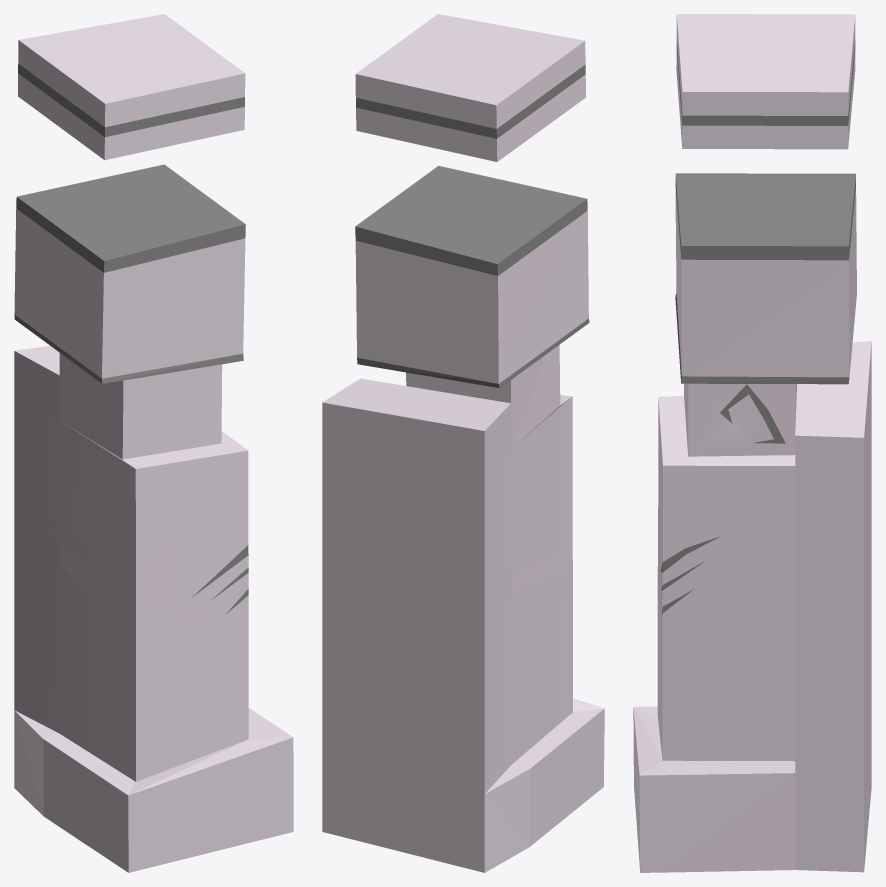
Rendered from Nexus.FBX.
3 views of the same model, side by side, from view 1: azimuth 30°, elevation 25°; view 2: azimuth 150°, elevation 25°; view 3: azimuth 270°, elevation 25° (orthographic). The views are drawn at different scales.
Parts seen in each view (by area): view 1: Nexus, Nexus_Plateform; view 2: Nexus, Nexus_Plateform; view 3: Nexus, Nexus_Plateform.
Part boxes in pixels (x1,y1,x2,y2): Nexus: [14, 164, 293, 872]; Nexus_Plateform: [18, 14, 245, 160]; Nexus: [322, 165, 604, 872]; Nexus_Plateform: [355, 14, 585, 161]; Nexus: [633, 173, 871, 872]; Nexus_Plateform: [676, 14, 855, 149].
Size of the model in its own units: 1.23 by 5.1 by 1.42.
